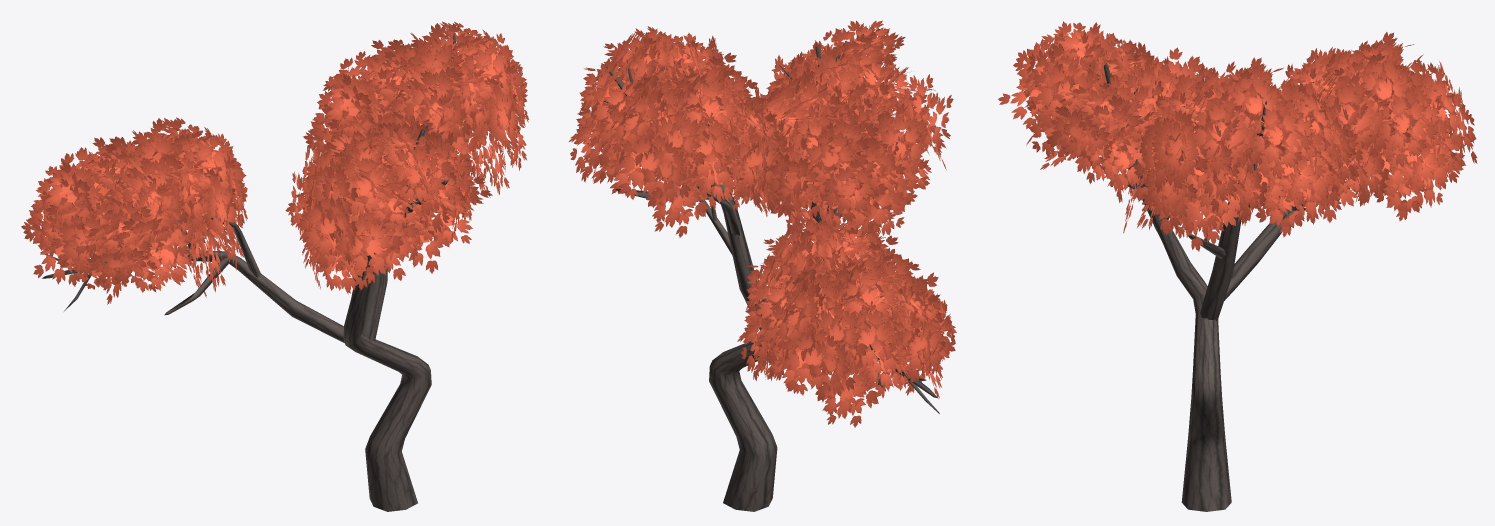
Rendered from MapleTree_2.glb.
3 views of the same model, side by side, from view 1: azimuth 30°, elevation 25°; view 2: azimuth 150°, elevation 25°; view 3: azimuth 270°, elevation 25° (orthographic). The views are drawn at different scales.
Size of the model in its own units: 6.7 by 6.71 by 6.24.
Materials: 2 (2 with a texture image).
